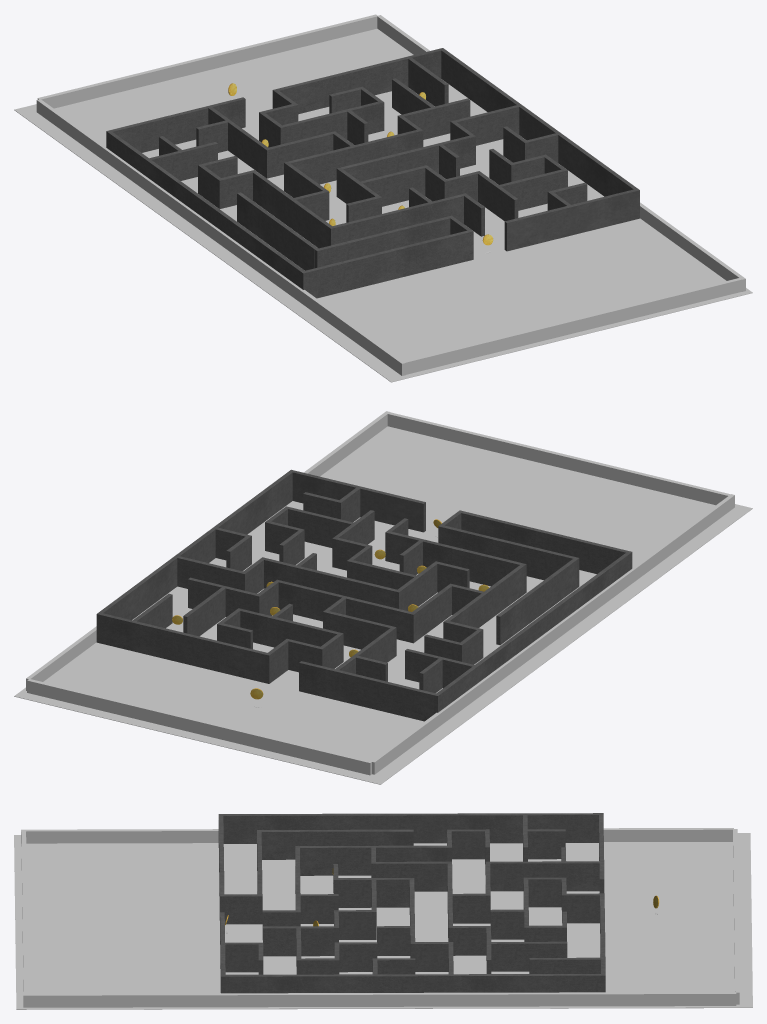
The model's file is Kvadraten.gltf.
3 renders of one model, top to bottom at view 1: azimuth 30°, elevation 25°; view 2: azimuth 150°, elevation 25°; view 3: azimuth 270°, elevation 25°, orthographic. The views are drawn at different scales.
Parts seen in each view (by area): view 1: Cube, Curve.057, Curve.001, Curve.055, Curve.056, Curve.026, Curve.054, Curve.053, Curve.024, Curve.025, Curve.014, Curve.005 (+30 smaller); view 2: Cube, Curve.057, Curve.024, Curve.056, Curve.055, Curve.026, Curve.025, Curve.053, Curve.001, Curve.054, Curve.014, Curve.005 (+35 smaller); view 3: Cube, Curve.058, Curve.053, Curve.026, Curve.057, Curve.049, Curve.050, Curve.048, Curve.034, Curve.045, Curve.033, Curve.047 (+30 smaller).
Boxes of the visible parts, x1,y1,x2,y2 form: Cube: [14, 28, 752, 382]; Curve.057: [36, 99, 405, 375]; Curve.001: [301, 229, 473, 298]; Curve.055: [403, 278, 741, 374]; Curve.056: [37, 14, 377, 108]; Curve.026: [441, 48, 637, 196]; Curve.054: [504, 188, 639, 251]; Curve.053: [106, 130, 304, 287]; Curve.024: [277, 48, 444, 114]; Curve.025: [110, 97, 245, 152]; Curve.014: [288, 129, 423, 184]; Curve.005: [328, 193, 465, 245]; Cube: [14, 426, 752, 784]; Curve.057: [372, 494, 734, 774]; Curve.024: [96, 612, 266, 682]; Curve.056: [27, 679, 371, 775]; Curve.055: [387, 412, 731, 505]; Curve.026: [97, 471, 292, 641]; Curve.025: [299, 661, 435, 721]; Curve.053: [434, 552, 629, 714]; Curve.001: [458, 510, 632, 573]; Curve.054: [289, 469, 425, 532]; Curve.014: [275, 579, 411, 642]; Curve.005: [385, 531, 526, 593]; Cube: [14, 833, 752, 1009]; Curve.058: [23, 992, 736, 1007]; Curve.053: [223, 813, 603, 843]; Curve.026: [225, 974, 605, 993]; Curve.057: [21, 828, 733, 843]; Curve.049: [300, 845, 451, 875]; Curve.050: [261, 829, 413, 859]; Curve.048: [490, 861, 599, 891]; Curve.034: [263, 926, 338, 956]; Curve.045: [338, 878, 414, 907]; Curve.033: [491, 941, 567, 971]; Curve.047: [376, 861, 451, 891].
Bounding box in the file's own units: 46.68 × 3.74 × 82.62.
